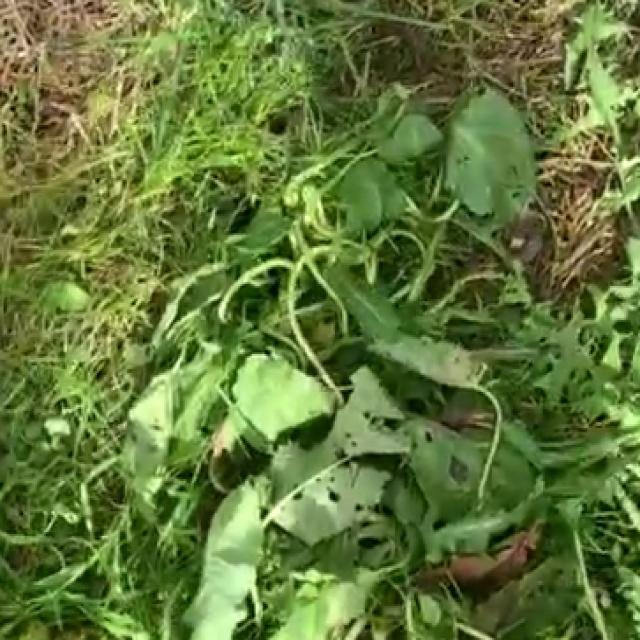organic waste: (164, 61, 640, 614)
